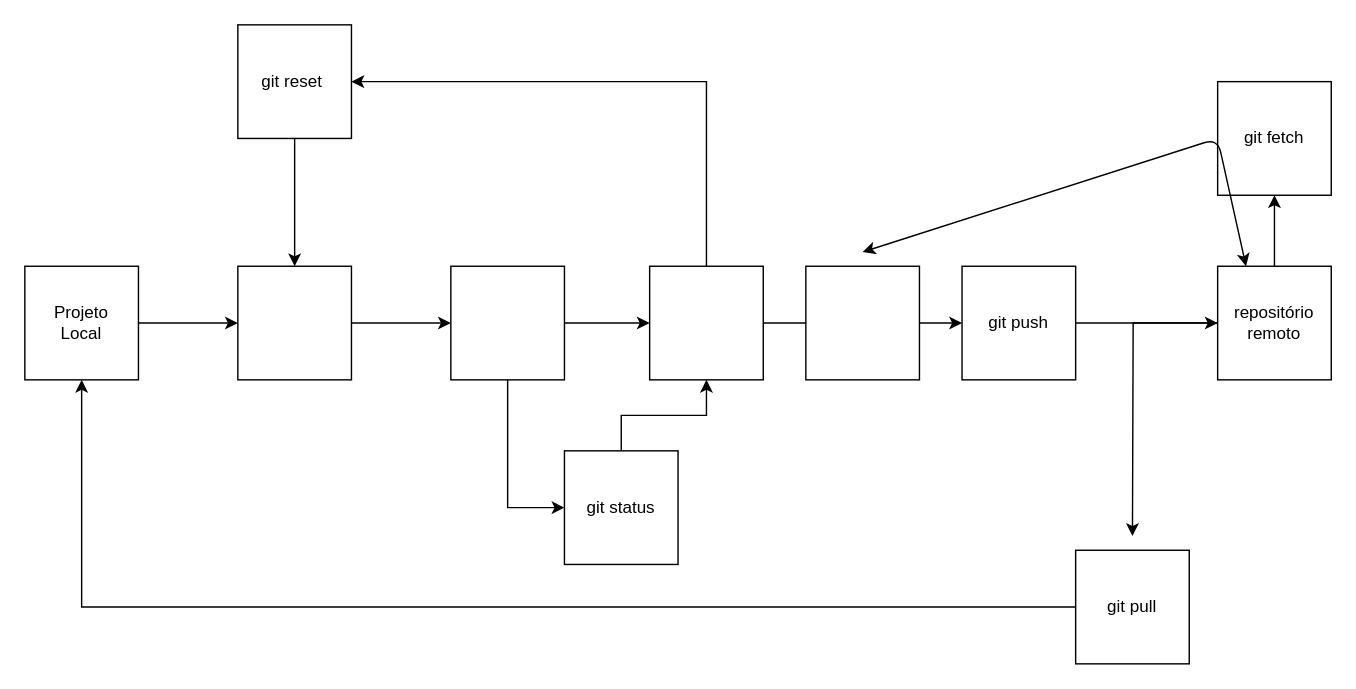
The diagram is 1356 pixels wide and 689 high, and some of its shapes have lost their labels. The shapes that lost their labels are listed below. From the top down, each one's centre as x and y in pixels, then its label:
[293,322]: git init
[506,322]: git add
[705,322]: git commit -m "mensagem"
[861,322]: repositório local
